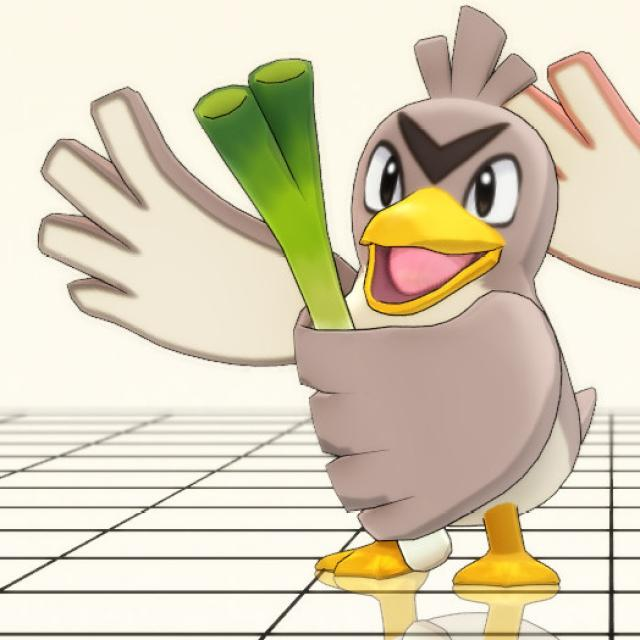Farfetchd: (54, 24, 597, 594)
